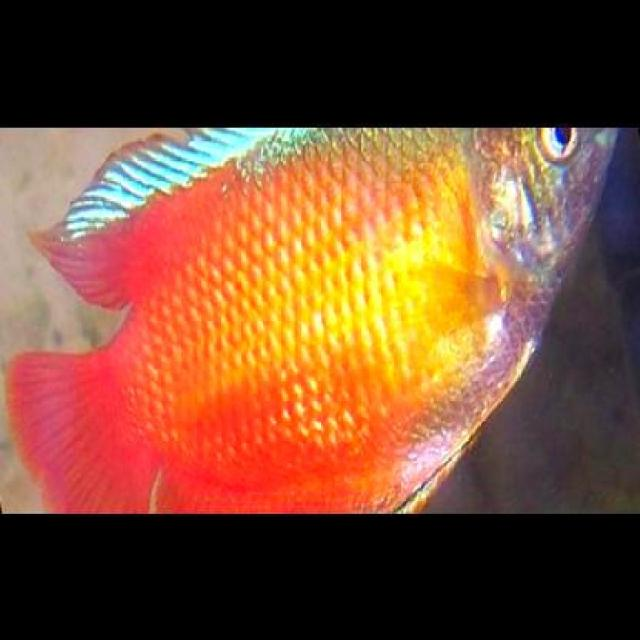Gourami: (1, 126, 614, 514)
